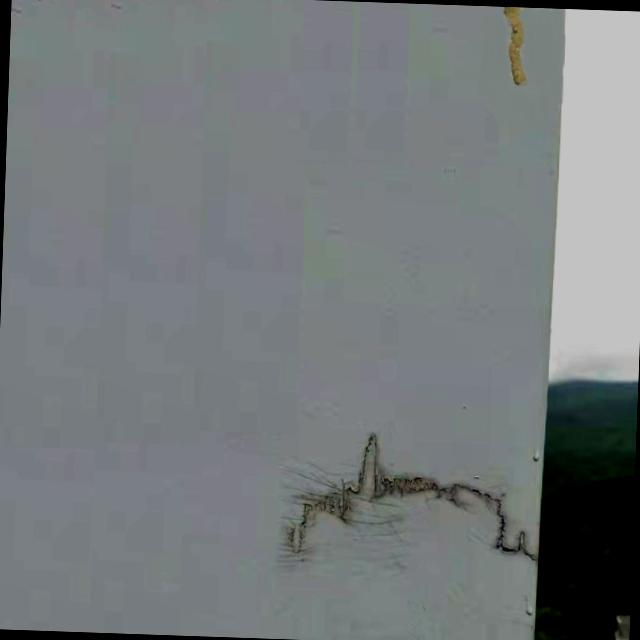crack: (272, 424, 538, 566)
surface_peeling: (496, 7, 535, 92)
